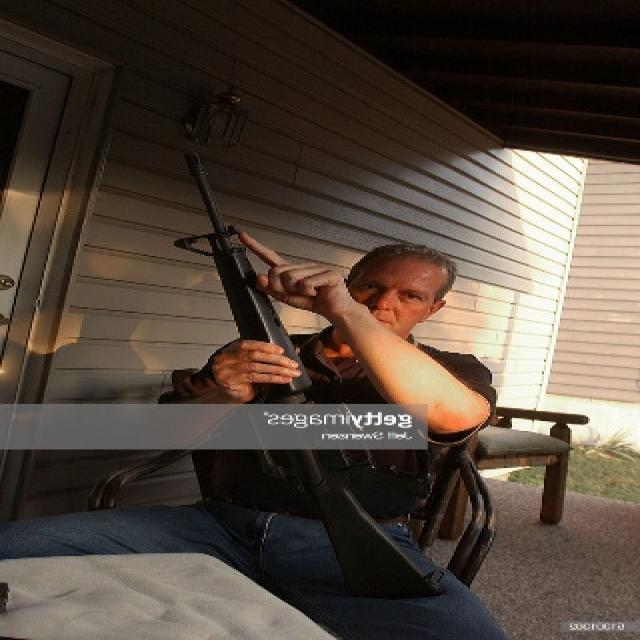rifle: (175, 141, 463, 612)
